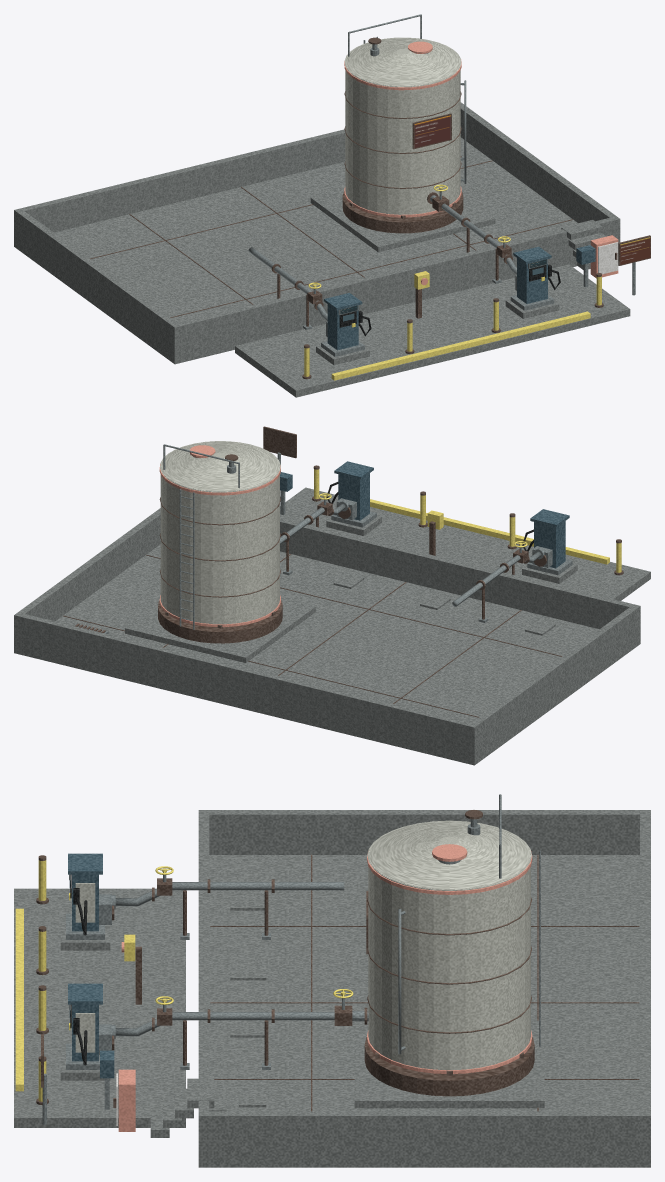
File: PZ_MorrowFuel_Tanks_Bund_PumpStation_COMPLETE.glb
The picture shows the model from 3 angles, top to bottom: view 1: azimuth 30°, elevation 25°; view 2: azimuth 150°, elevation 25°; view 3: azimuth 270°, elevation 25°; orthographic projection. The views are drawn at different scales.
Parts seen in each view (by area): view 1: Bund_Floor_Reinforced_16x10m, Pump_Concrete_Platform_12x3p8m, Tank_Vertical_Shell_D3p6m_H4p5m, Bund_South_Wall_16m, Bund_North_Wall_16m, Bund_West_Wall_10m, Bund_East_Wall_10m, Tank_Conical_Weather_Roof, Tank_Anchor_Platform, Pump_Apron_Island_Curb, Tank_Foundation_Ring, Pump_1_Main_Cabinet (+5 smaller); view 2: Bund_Floor_Reinforced_16x10m, Bund_North_Wall_16m, Tank_Vertical_Shell_D3p6m_H4p5m, Bund_South_Wall_16m, Pump_Concrete_Platform_12x3p8m, Bund_West_Wall_10m, Bund_East_Wall_10m, Tank_Conical_Weather_Roof, Tank_Anchor_Platform, Tank_Foundation_Ring, Pump_Apron_Island_Curb, Pump_1_Main_Cabinet (+5 smaller); view 3: Bund_Floor_Reinforced_16x10m, Tank_Vertical_Shell_D3p6m_H4p5m, Pump_Concrete_Platform_12x3p8m, Bund_East_Wall_10m, Bund_West_Wall_10m, Tank_Conical_Weather_Roof, Tank_Anchor_Platform, Tank_Foundation_Ring, Bund_North_Wall_16m, Bund_South_Wall_16m, Pipe_Run_01_From_Tank_To_Pump, Pipe_Run_02_From_Tank_To_Pump (+15 smaller).
Part boxes in pixels (bbox=[...]): Bund_Floor_Reinforced_16x10m: bbox=[14, 137, 577, 364]; Pump_Concrete_Platform_12x3p8m: bbox=[235, 264, 630, 397]; Tank_Vertical_Shell_D3p6m_H4p5m: bbox=[345, 37, 460, 214]; Bund_South_Wall_16m: bbox=[171, 216, 620, 355]; Bund_North_Wall_16m: bbox=[14, 102, 462, 240]; Bund_West_Wall_10m: bbox=[18, 211, 177, 352]; Bund_East_Wall_10m: bbox=[460, 104, 615, 223]; Tank_Conical_Weather_Roof: bbox=[344, 38, 461, 86]; Tank_Anchor_Platform: bbox=[310, 189, 495, 252]; Pump_Apron_Island_Curb: bbox=[331, 311, 590, 380]; Tank_Foundation_Ring: bbox=[342, 191, 463, 233]; Pump_1_Main_Cabinet: bbox=[327, 304, 358, 350]; Bund_Floor_Reinforced_16x10m: bbox=[14, 544, 640, 765]; Bund_North_Wall_16m: bbox=[14, 612, 478, 756]; Tank_Vertical_Shell_D3p6m_H4p5m: bbox=[160, 441, 279, 624]; Bund_South_Wall_16m: bbox=[280, 518, 640, 637]; Pump_Concrete_Platform_12x3p8m: bbox=[280, 487, 650, 600]; Bund_West_Wall_10m: bbox=[472, 607, 636, 753]; Bund_East_Wall_10m: bbox=[18, 508, 160, 621]; Tank_Conical_Weather_Roof: bbox=[160, 441, 280, 491]; Tank_Anchor_Platform: bbox=[125, 598, 315, 662]; Tank_Foundation_Ring: bbox=[158, 600, 282, 643]; Pump_Apron_Island_Curb: bbox=[370, 499, 609, 564]; Pump_1_Main_Cabinet: bbox=[534, 521, 565, 568]; Bund_Floor_Reinforced_16x10m: bbox=[198, 855, 650, 1167]; Tank_Vertical_Shell_D3p6m_H4p5m: bbox=[368, 820, 530, 1070]; Pump_Concrete_Platform_12x3p8m: bbox=[14, 888, 185, 1127]; Bund_East_Wall_10m: bbox=[209, 1111, 639, 1156]; Bund_West_Wall_10m: bbox=[209, 810, 639, 854]; Tank_Conical_Weather_Roof: bbox=[367, 821, 531, 890]; Tank_Anchor_Platform: bbox=[354, 1020, 544, 1108]; Tank_Foundation_Ring: bbox=[364, 1037, 534, 1096]; Bund_North_Wall_16m: bbox=[640, 810, 650, 1156]; Bund_South_Wall_16m: bbox=[198, 810, 209, 1156]; Pipe_Run_01_From_Tank_To_Pump: bbox=[115, 882, 344, 906]; Pipe_Run_02_From_Tank_To_Pump: bbox=[115, 1012, 334, 1036].
Size of the model in its own units: 16 by 6.36 by 14.08.
Materials: 11 (10 with a texture image).
